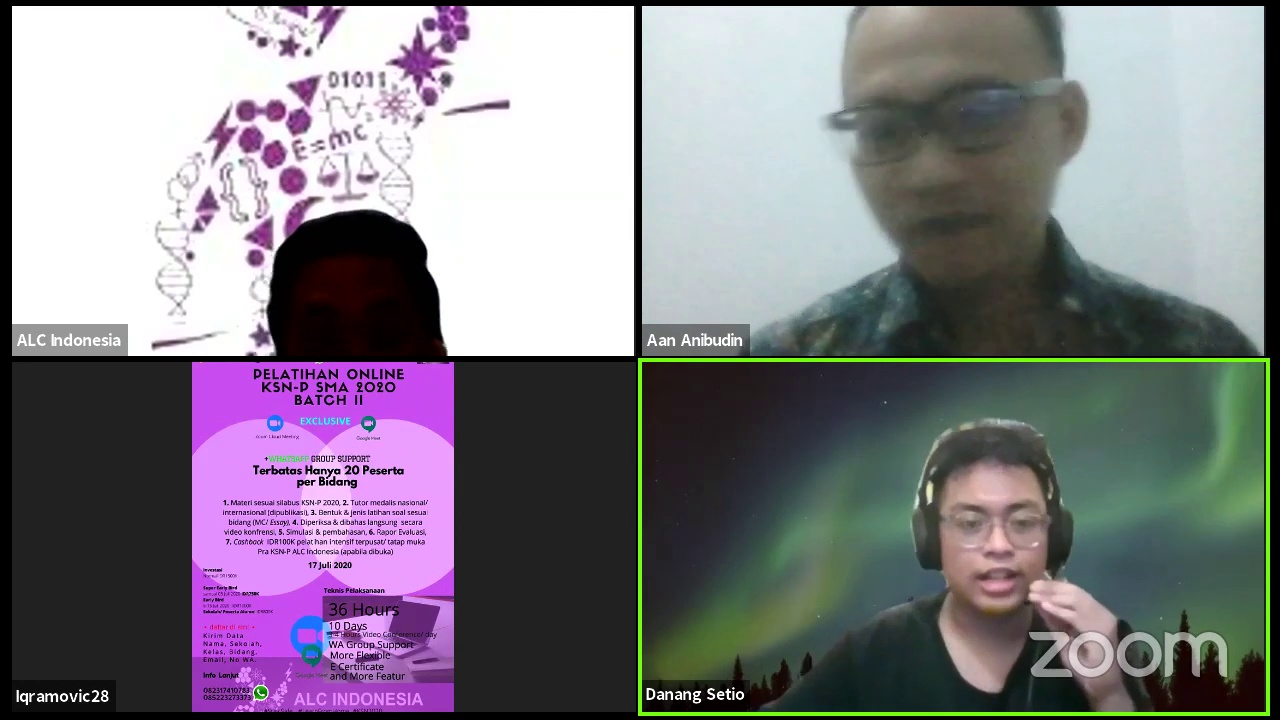Not Distracted: (820, 21, 1097, 282), (906, 435, 1074, 632), (271, 228, 433, 350)
